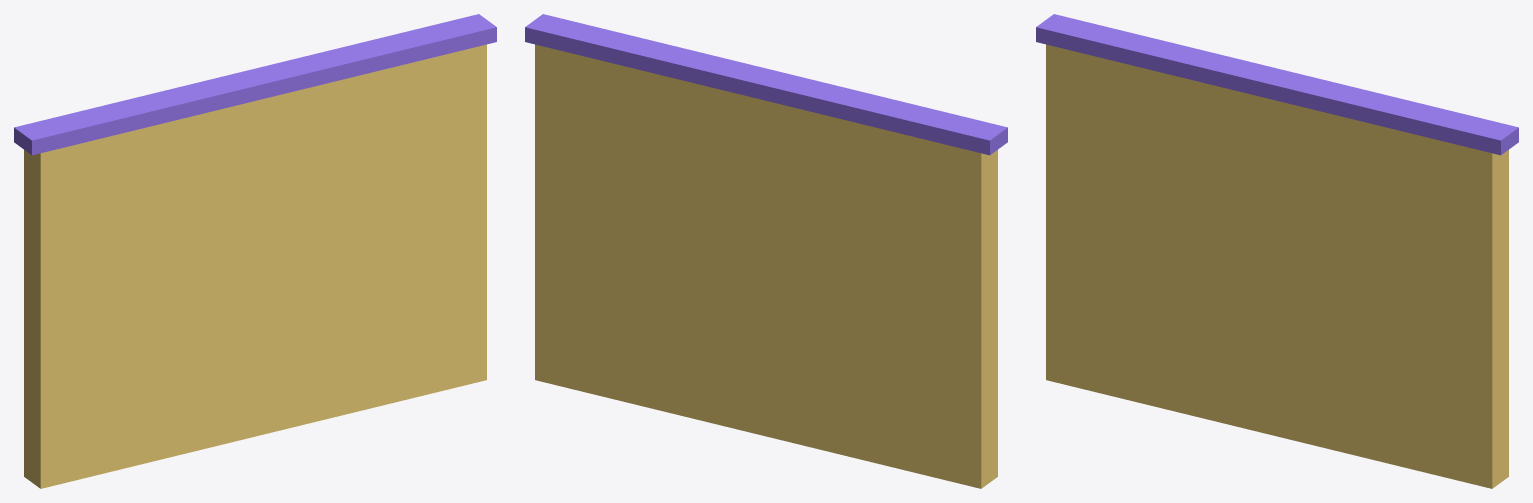
The model's file is MOR_TEP_PAREDES_00_LIMPIO.fbx.
3 renders of one model, left to right at view 1: azimuth 30°, elevation 25°; view 2: azimuth 150°, elevation 25°; view 3: azimuth 330°, elevation 25°, orthographic.
Parts seen in each view (by area): view 1: MOR_TEP_PAREDES_00_LIMPIO_LOD0; view 2: MOR_TEP_PAREDES_00_LIMPIO_LOD0; view 3: MOR_TEP_PAREDES_00_LIMPIO_LOD0.
Boxes of the visible parts, x1,y1,x2,y2 form: MOR_TEP_PAREDES_00_LIMPIO_LOD0: (14, 14, 496, 488); MOR_TEP_PAREDES_00_LIMPIO_LOD0: (525, 14, 1007, 488); MOR_TEP_PAREDES_00_LIMPIO_LOD0: (1036, 14, 1518, 488).
Size of what is drawn, in the model's own units: 410 by 296 by 27.51.
